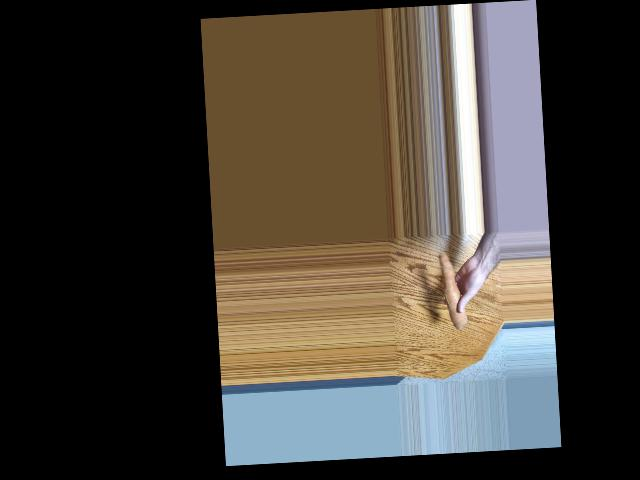sweet_potato: (442, 252, 461, 329)
